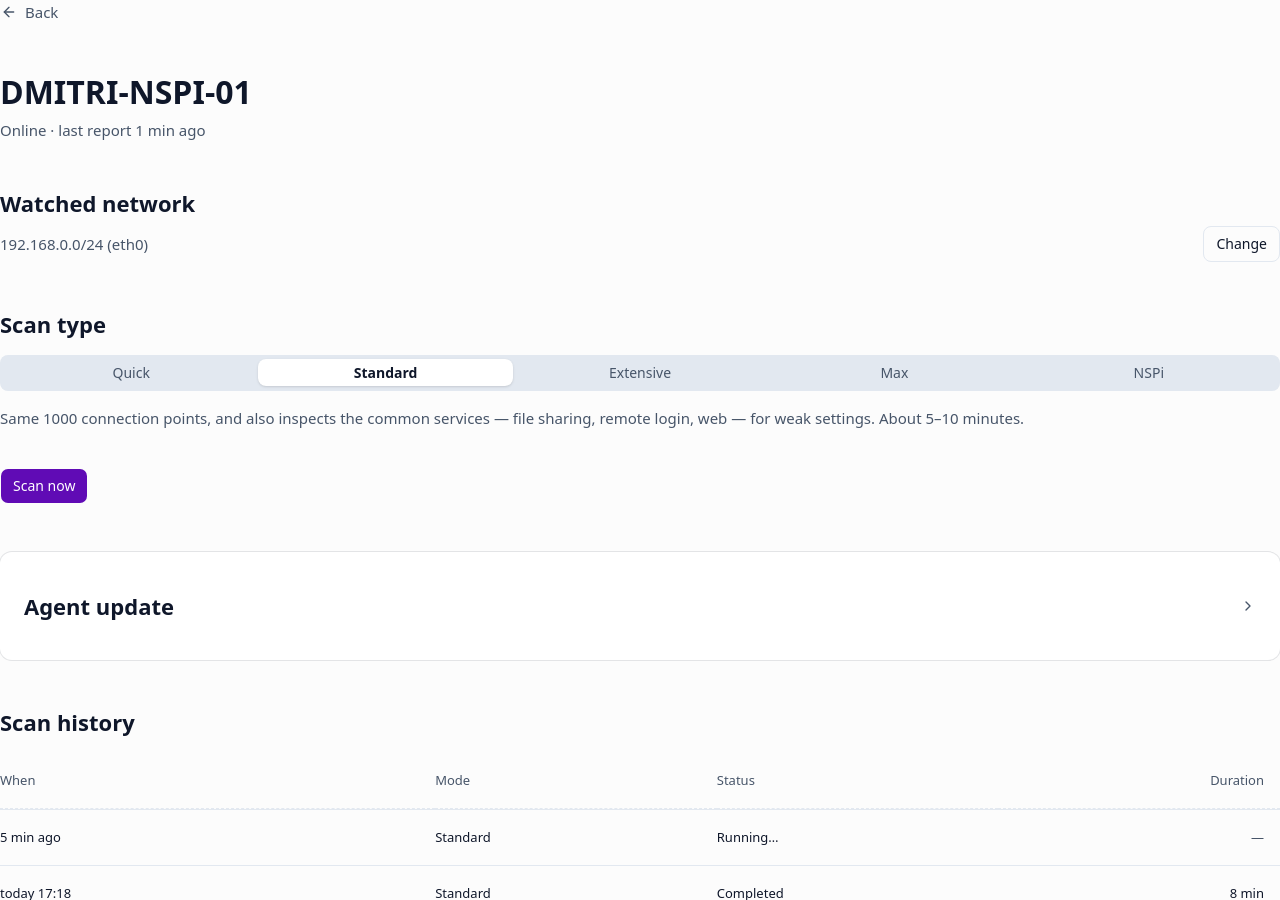
it: DeviceDetail revocation › closes an open network chooser when the device becomes revoked
Click the button with test id "agents-network-change": [1242, 244] box 1204,226 -> 1279,262
(page scrolled)
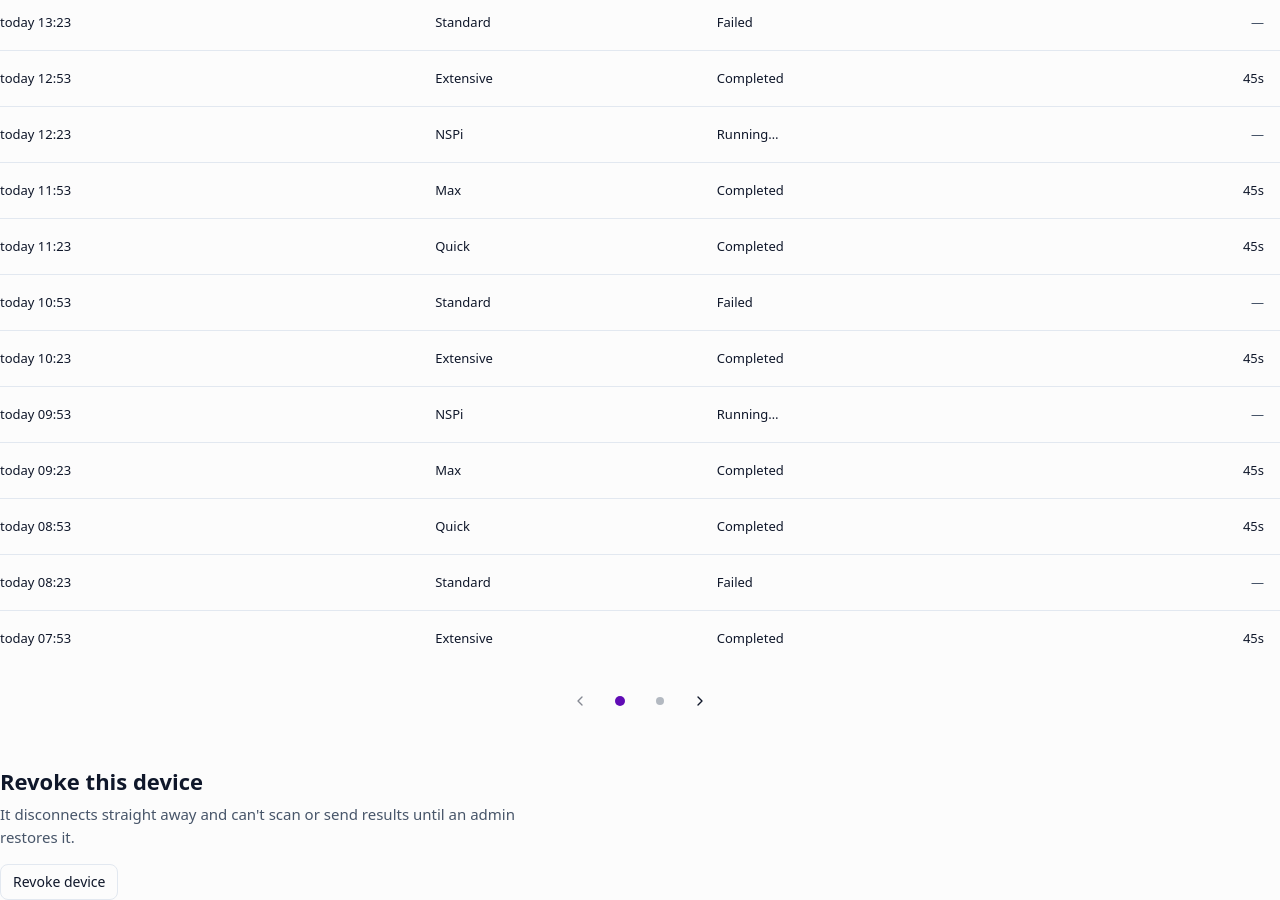
Click the button with test id "device-revoke-trigger": [59, 882] box 0,864 -> 118,899
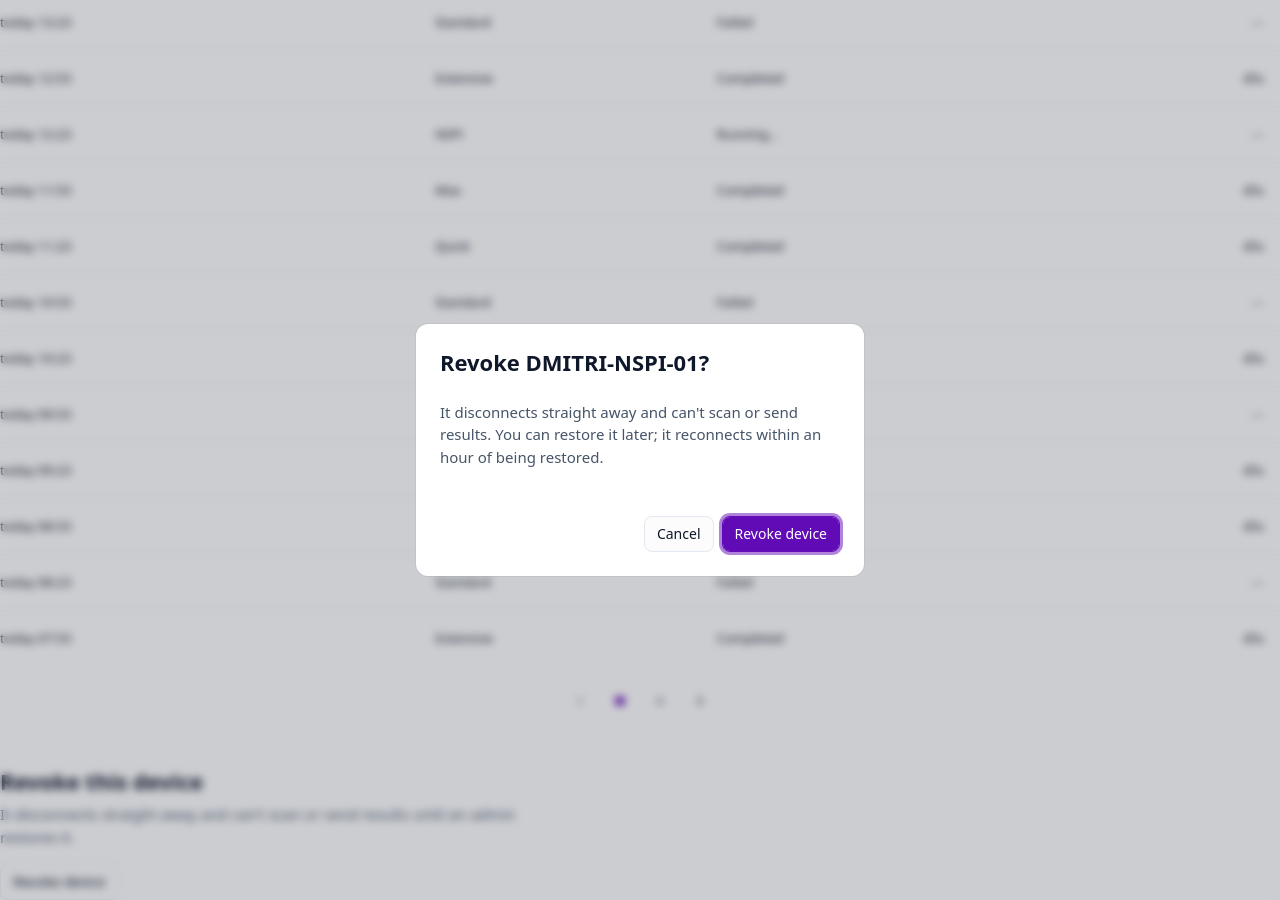
Click the button with test id "device-revoke-confirm": [781, 534] box 722,516 -> 840,552
(page scrolled)
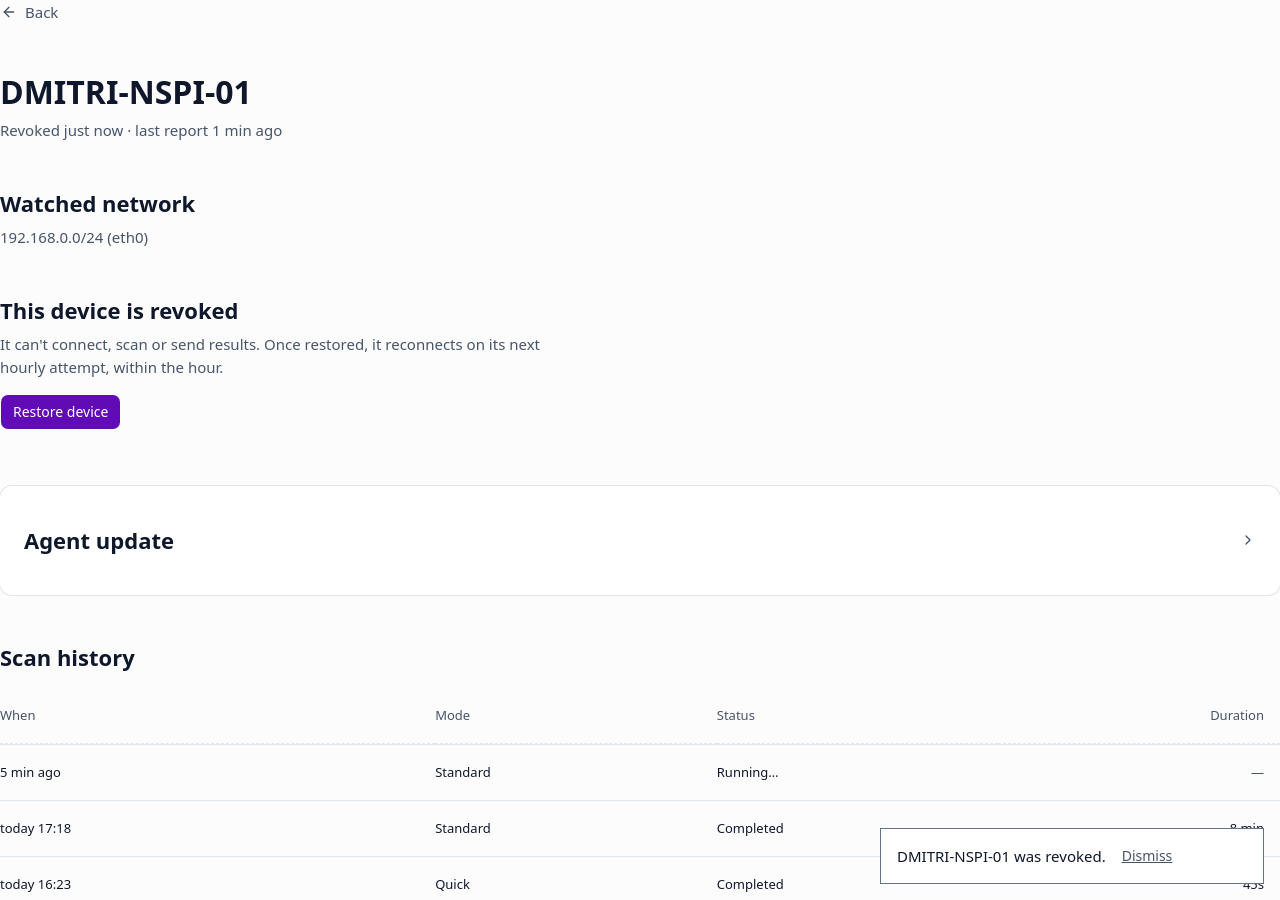
Result: the element with test id "device-revoked" is shown at 0,296 -> 540,430
Result: the text "192.168.0.0/24 (eth0)" is shown at 0,227 -> 148,247
